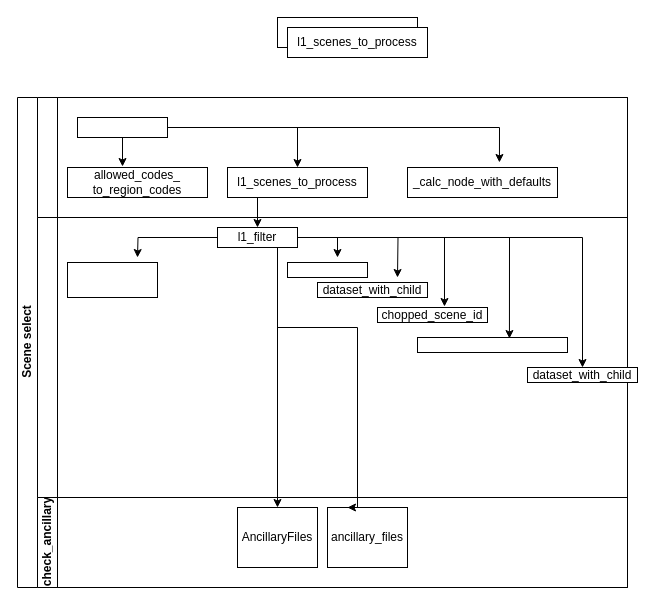
The diagram is 655 pixels wide and 605 high, and some of its shapes have lost their labels. Here are the shapes that lost their labels. From the top down, the box of each, then its label:
(76, 116, 168, 138): Scene_select
(36, 96, 628, 218): Lane 1
(66, 262, 158, 298): calc_processed ard_scene_ids
(286, 262, 368, 278): exclude_days
(36, 216, 628, 498): Lane 2
(416, 336, 568, 352): processed_ard_scene_ids
